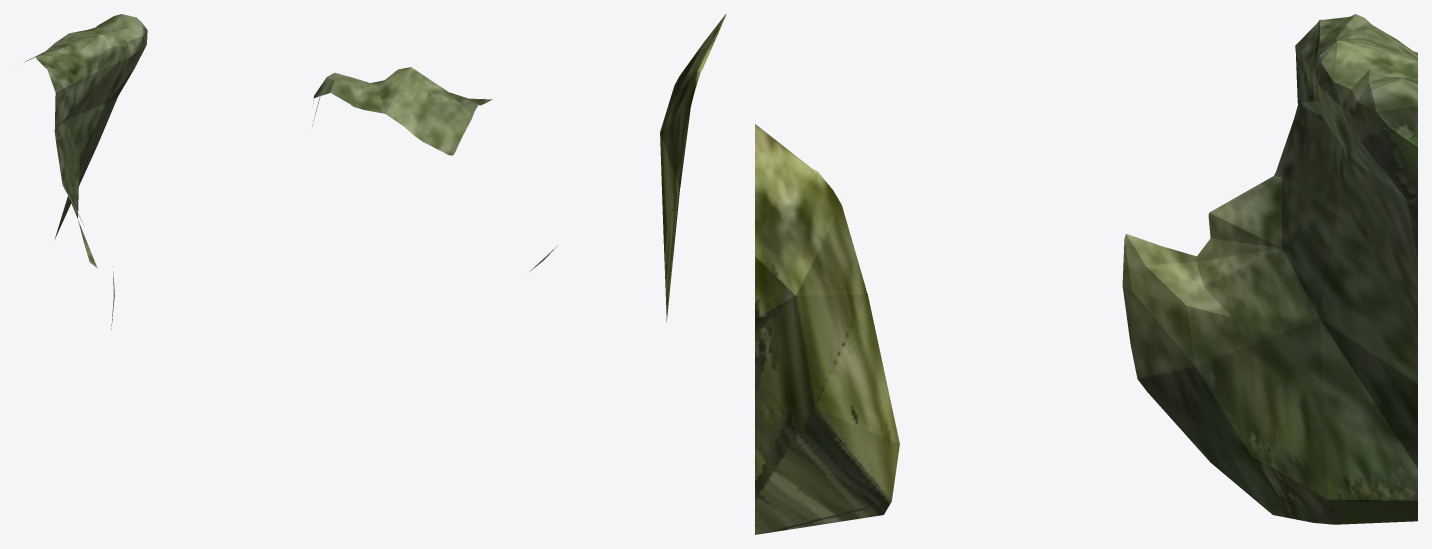
3 views of the same model, side by side, from view 1: azimuth 30°, elevation 25°; view 2: azimuth 150°, elevation 25°; view 3: azimuth 270°, elevation 25° (orthographic). The views are drawn at different scales.
Bounding box in the file's own units: 0.9114 × 2.54 × 2.95.
Materials: 1 (1 with a texture image).
